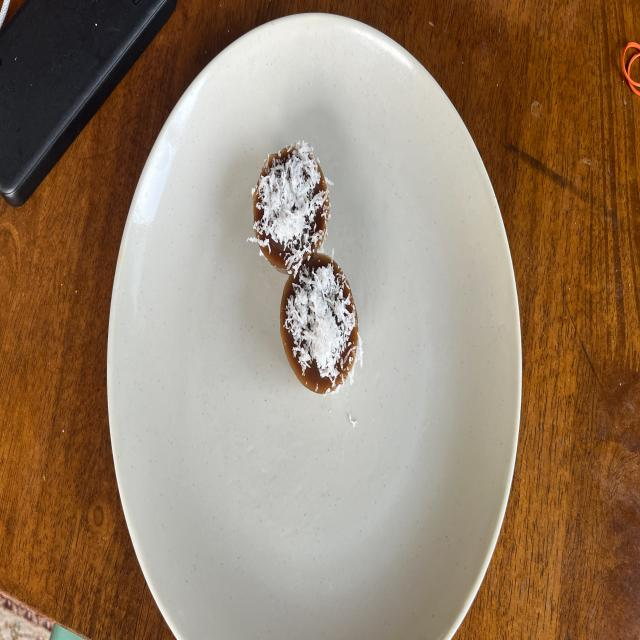Kuih lompang: (280, 253, 359, 393), (252, 142, 330, 273)
